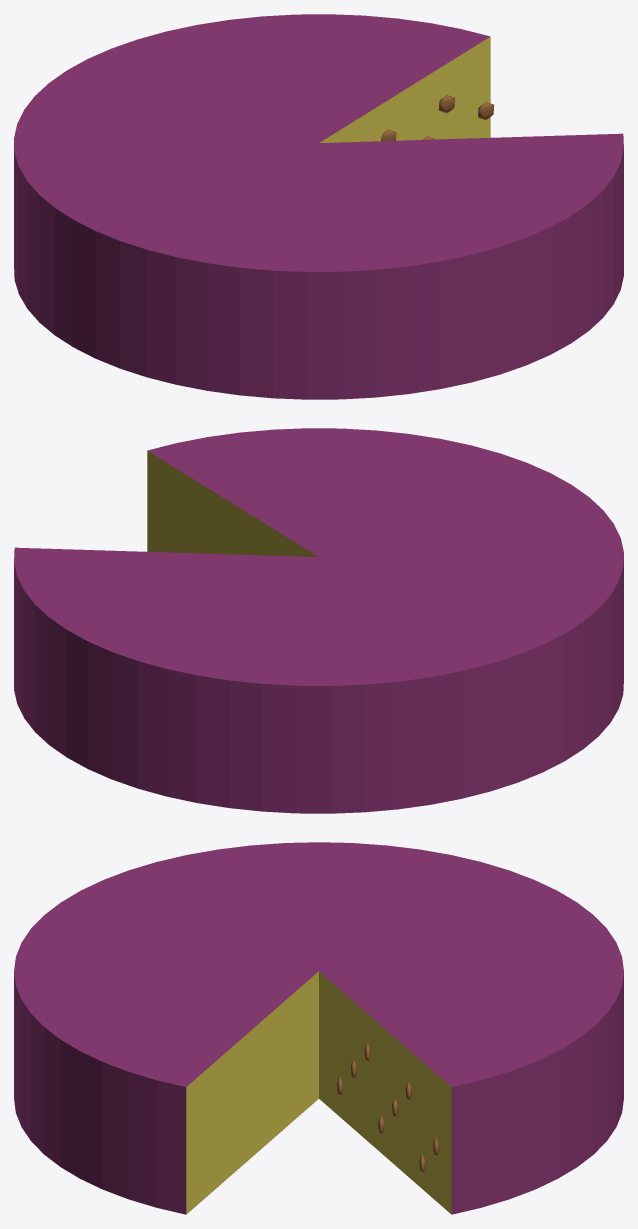
3 views of the same model, one above another, from view 1: azimuth 30°, elevation 25°; view 2: azimuth 150°, elevation 25°; view 3: azimuth 270°, elevation 25° (orthographic).
Visible parts, largest first — view 1: TI048 / whole cheese wheel with removed wedge; view 2: TI048 / whole cheese wheel with removed wedge; view 3: TI048 / whole cheese wheel with removed wedge.
Part boxes in pixels (x1=…): TI048 / whole cheese wheel with removed wedge: x1=14, y1=14, x2=623, y2=399; TI048 / whole cheese wheel with removed wedge: x1=14, y1=428, x2=623, y2=813; TI048 / whole cheese wheel with removed wedge: x1=14, y1=842, x2=623, y2=1214.
Bounding box in the file's own units: 2.47 × 0.6 × 2.6.
